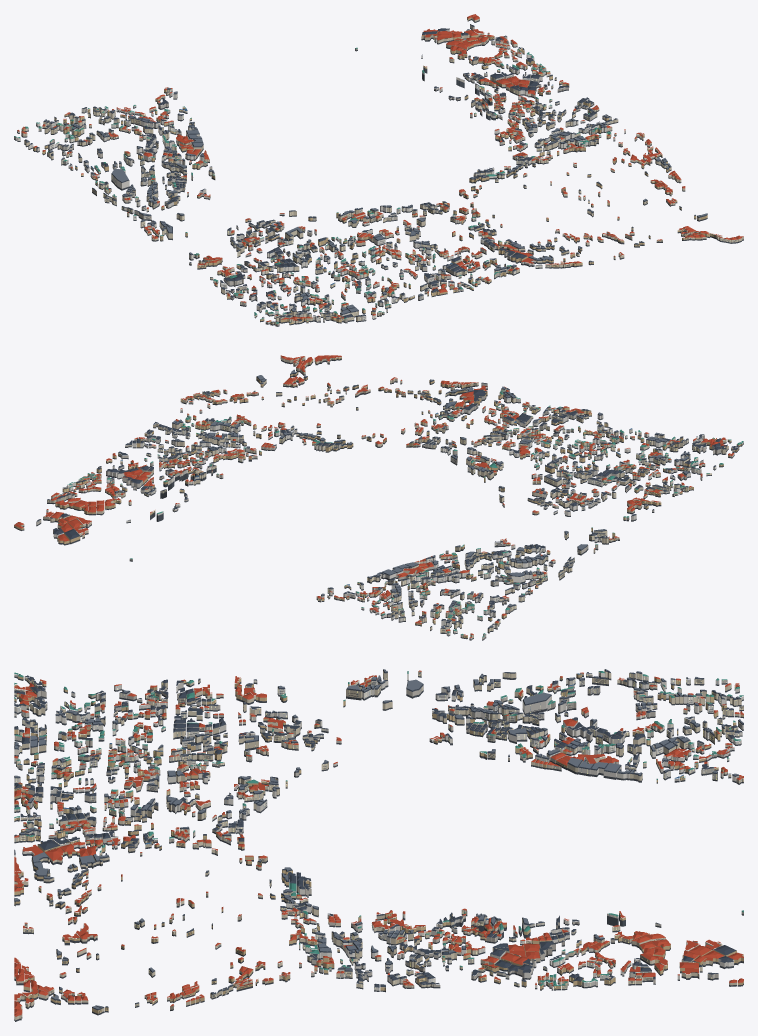
File: osm_buildings_T_E00_N00.glb
The picture shows the model from 3 angles, top to bottom: view 1: azimuth 30°, elevation 25°; view 2: azimuth 150°, elevation 25°; view 3: azimuth 270°, elevation 25°; orthographic projection. The views are drawn at different scales.
Visible parts, largest first — view 1: OSM_T_E00_N00_foundation, OSM_T_E00_N00_wall_cream_stucco, OSM_T_E00_N00_roof_mansard_slate, OSM_T_E00_N00_roof_terracotta, OSM_T_E00_N00_wall_warm_white, OSM_T_E00_N00_wall_french_ochre, OSM_T_E00_N00_wall_pastel_sand, OSM_T_E00_N00_roof_mansard_deck, OSM_T_E00_N00_roof_mint_metal, OSM_T_E00_N00_balcony_railing; view 2: OSM_T_E00_N00_wall_cream_stucco, OSM_T_E00_N00_foundation, OSM_T_E00_N00_roof_mansard_slate, OSM_T_E00_N00_roof_terracotta, OSM_T_E00_N00_wall_warm_white, OSM_T_E00_N00_wall_french_ochre, OSM_T_E00_N00_wall_pastel_sand, OSM_T_E00_N00_roof_mansard_deck, OSM_T_E00_N00_roof_mint_metal, OSM_T_E00_N00_balcony_railing; view 3: OSM_T_E00_N00_roof_mansard_slate, OSM_T_E00_N00_roof_terracotta, OSM_T_E00_N00_wall_cream_stucco, OSM_T_E00_N00_foundation, OSM_T_E00_N00_wall_warm_white, OSM_T_E00_N00_wall_french_ochre, OSM_T_E00_N00_wall_pastel_sand, OSM_T_E00_N00_roof_mansard_deck, OSM_T_E00_N00_roof_mint_metal, OSM_T_E00_N00_balcony_railing, OSM_T_E00_N00_glass_blend_85, OSM_T_E00_N00_window_emissive_warm (+1 smaller).
Boxes of the visible parts, bbox=[...] form: OSM_T_E00_N00_foundation: bbox=[14, 19, 743, 326]; OSM_T_E00_N00_wall_cream_stucco: bbox=[21, 18, 743, 324]; OSM_T_E00_N00_roof_mansard_slate: bbox=[24, 24, 707, 322]; OSM_T_E00_N00_roof_terracotta: bbox=[17, 14, 743, 321]; OSM_T_E00_N00_wall_warm_white: bbox=[17, 29, 611, 323]; OSM_T_E00_N00_wall_french_ochre: bbox=[21, 17, 716, 325]; OSM_T_E00_N00_wall_pastel_sand: bbox=[14, 24, 625, 325]; OSM_T_E00_N00_roof_mansard_deck: bbox=[25, 56, 707, 315]; OSM_T_E00_N00_roof_mint_metal: bbox=[14, 47, 610, 323]; OSM_T_E00_N00_balcony_railing: bbox=[47, 35, 736, 320]; OSM_T_E00_N00_wall_cream_stucco: bbox=[16, 356, 739, 638]; OSM_T_E00_N00_foundation: bbox=[14, 357, 743, 640]; OSM_T_E00_N00_roof_mansard_slate: bbox=[36, 370, 738, 628]; OSM_T_E00_N00_roof_terracotta: bbox=[14, 355, 734, 637]; OSM_T_E00_N00_wall_warm_white: bbox=[46, 383, 734, 639]; OSM_T_E00_N00_wall_french_ochre: bbox=[14, 356, 742, 638]; OSM_T_E00_N00_wall_pastel_sand: bbox=[36, 392, 743, 639]; OSM_T_E00_N00_roof_mansard_deck: bbox=[115, 369, 689, 627]; OSM_T_E00_N00_roof_mint_metal: bbox=[67, 390, 743, 637]; OSM_T_E00_N00_balcony_railing: bbox=[55, 360, 706, 632]; OSM_T_E00_N00_roof_mansard_slate: bbox=[14, 669, 743, 1010]; OSM_T_E00_N00_roof_terracotta: bbox=[14, 670, 743, 1016]; OSM_T_E00_N00_wall_cream_stucco: bbox=[14, 670, 743, 1020]; OSM_T_E00_N00_foundation: bbox=[14, 675, 743, 1021]; OSM_T_E00_N00_wall_warm_white: bbox=[14, 671, 743, 990]; OSM_T_E00_N00_wall_french_ochre: bbox=[14, 674, 743, 1013]; OSM_T_E00_N00_wall_pastel_sand: bbox=[14, 674, 743, 989]; OSM_T_E00_N00_roof_mansard_deck: bbox=[15, 669, 743, 1008]; OSM_T_E00_N00_roof_mint_metal: bbox=[14, 671, 743, 985]; OSM_T_E00_N00_balcony_railing: bbox=[15, 672, 742, 1012]; OSM_T_E00_N00_glass_blend_85: bbox=[15, 673, 741, 1005]; OSM_T_E00_N00_window_emissive_warm: bbox=[16, 674, 740, 1011].
Bounding box in the file's own units: 1993 × 167 × 1993.
